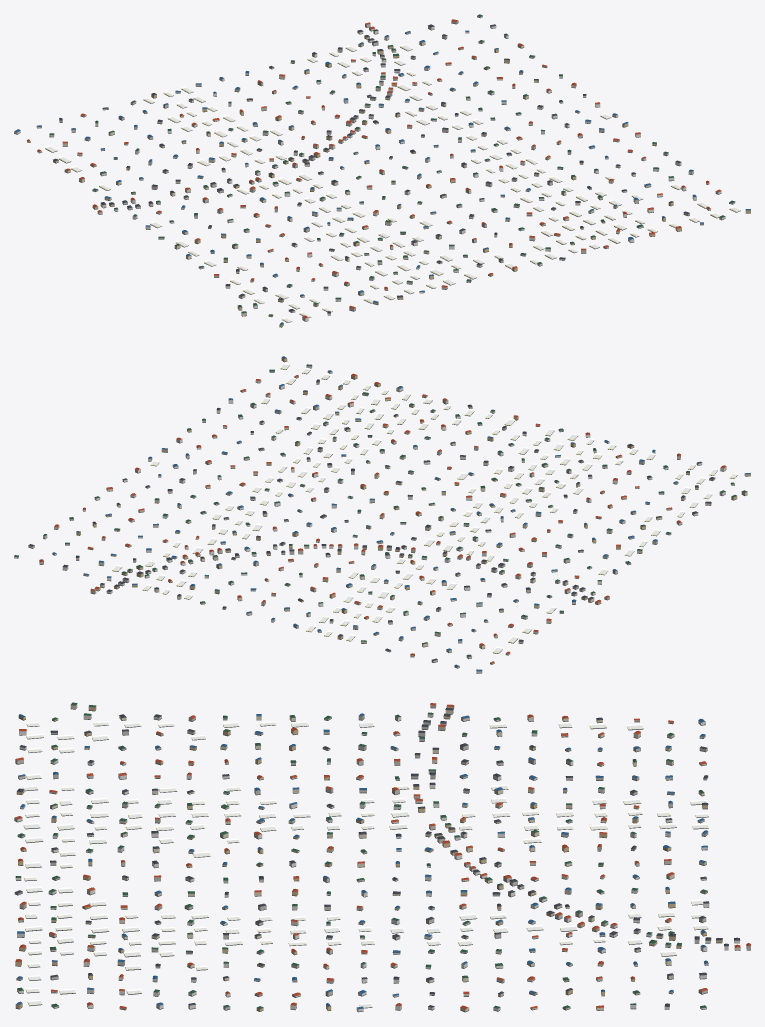
The model's file is buildings_T_E01_S05.glb.
3 renders of one model, top to bottom at view 1: azimuth 30°, elevation 25°; view 2: azimuth 150°, elevation 25°; view 3: azimuth 270°, elevation 25°, orthographic. The views are drawn at different scales.
Visible parts, largest first — view 1: T_E01_S05_slope_seating_foundations, T_E01_S05_roofs_agri_greenhouse_arch, T_E01_S05_walls_wall_modern_warm_white, T_E01_S05_walls_wall_pastel_sand_gray, T_E01_S05_walls_wall_dalat_cream_stucco, T_E01_S05_roofs_roof_terracotta_gable, T_E01_S05_roofs_roof_slate_French_villa_hip, T_E01_S05_walls_wall_french_ochre_villa, T_E01_S05_roofs_roof_pine_green_hip, T_E01_S05_roofs_roof_highland_blue_gable; view 2: T_E01_S05_slope_seating_foundations, T_E01_S05_roofs_agri_greenhouse_arch, T_E01_S05_walls_wall_modern_warm_white, T_E01_S05_walls_wall_pastel_sand_gray, T_E01_S05_walls_wall_dalat_cream_stucco, T_E01_S05_walls_wall_french_ochre_villa, T_E01_S05_roofs_roof_slate_French_villa_hip, T_E01_S05_roofs_roof_terracotta_gable, T_E01_S05_roofs_roof_pine_green_hip, T_E01_S05_roofs_roof_highland_blue_gable; view 3: T_E01_S05_slope_seating_foundations, T_E01_S05_roofs_agri_greenhouse_arch, T_E01_S05_walls_wall_modern_warm_white, T_E01_S05_walls_wall_pastel_sand_gray, T_E01_S05_walls_wall_dalat_cream_stucco, T_E01_S05_roofs_roof_terracotta_gable, T_E01_S05_roofs_roof_slate_French_villa_hip, T_E01_S05_walls_wall_french_ochre_villa, T_E01_S05_roofs_roof_pine_green_hip, T_E01_S05_roofs_roof_highland_blue_gable.
Part boxes in pixels (x1,y1,x2,y2): T_E01_S05_slope_seating_foundations: (14, 16, 750, 327); T_E01_S05_roofs_agri_greenhouse_arch: (45, 44, 740, 322); T_E01_S05_walls_wall_modern_warm_white: (14, 16, 735, 321); T_E01_S05_walls_wall_pastel_sand_gray: (59, 20, 710, 311); T_E01_S05_walls_wall_dalat_cream_stucco: (36, 28, 643, 315); T_E01_S05_roofs_roof_terracotta_gable: (27, 19, 721, 318); T_E01_S05_roofs_roof_slate_French_villa_hip: (53, 24, 689, 313); T_E01_S05_walls_wall_french_ochre_villa: (27, 36, 750, 326); T_E01_S05_roofs_roof_pine_green_hip: (49, 14, 735, 315); T_E01_S05_roofs_roof_highland_blue_gable: (15, 30, 750, 324); T_E01_S05_slope_seating_foundations: (14, 360, 750, 673); T_E01_S05_roofs_agri_greenhouse_arch: (112, 363, 737, 653); T_E01_S05_walls_wall_modern_warm_white: (14, 365, 726, 673); T_E01_S05_walls_wall_pastel_sand_gray: (39, 371, 685, 662); T_E01_S05_walls_wall_dalat_cream_stucco: (52, 394, 747, 667); T_E01_S05_walls_wall_french_ochre_villa: (76, 357, 750, 664); T_E01_S05_roofs_roof_slate_French_villa_hip: (28, 379, 715, 660); T_E01_S05_roofs_roof_terracotta_gable: (39, 373, 726, 663); T_E01_S05_roofs_roof_pine_green_hip: (14, 364, 747, 656); T_E01_S05_roofs_roof_highland_blue_gable: (52, 356, 750, 671); T_E01_S05_slope_seating_foundations: (14, 707, 750, 1012); T_E01_S05_roofs_agri_greenhouse_arch: (22, 721, 708, 1007); T_E01_S05_walls_wall_modern_warm_white: (14, 713, 739, 1011); T_E01_S05_walls_wall_pastel_sand_gray: (14, 704, 750, 1009); T_E01_S05_walls_wall_dalat_cream_stucco: (18, 704, 740, 1011); T_E01_S05_roofs_roof_terracotta_gable: (14, 703, 750, 1009); T_E01_S05_roofs_roof_slate_French_villa_hip: (15, 707, 740, 1007); T_E01_S05_walls_wall_french_ochre_villa: (15, 705, 722, 1011); T_E01_S05_roofs_roof_pine_green_hip: (15, 702, 707, 1008); T_E01_S05_roofs_roof_highland_blue_gable: (16, 713, 708, 1009).
Size of the model in its own units: 1823 by 25.87 by 1857.
